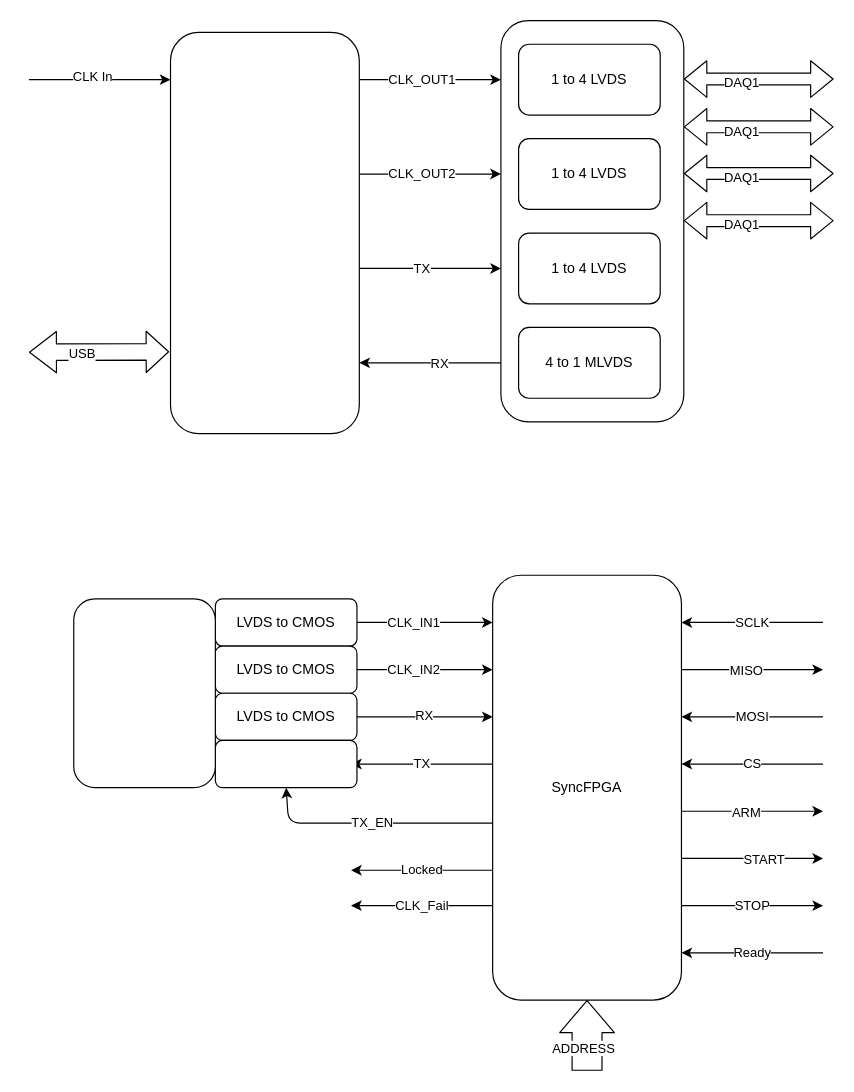
Some shapes in this 854 by 1092 pixel diagram are drawn without their labels. The box of each missing label's shape, as (x1, y1, x2, y2) in pixels:
CMOS to MLVDS: (214, 739, 357, 788)
Master MCU: (169, 31, 359, 434)
RJ45: (73, 598, 215, 788)
